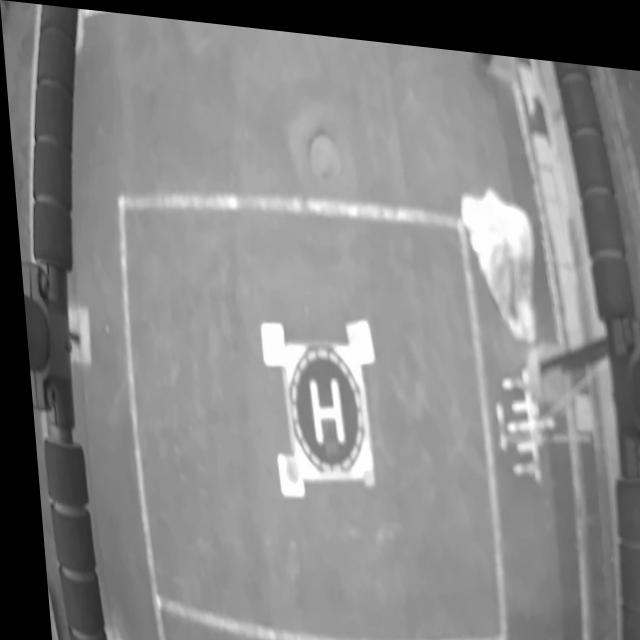Helipad: (303, 372, 339, 438)
